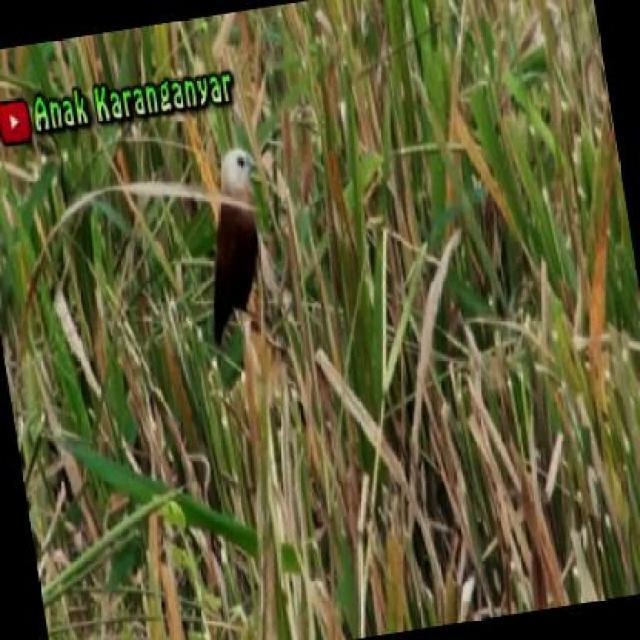Bird: (209, 145, 264, 352)
